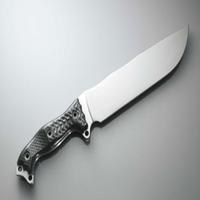knife: (15, 23, 191, 185)
